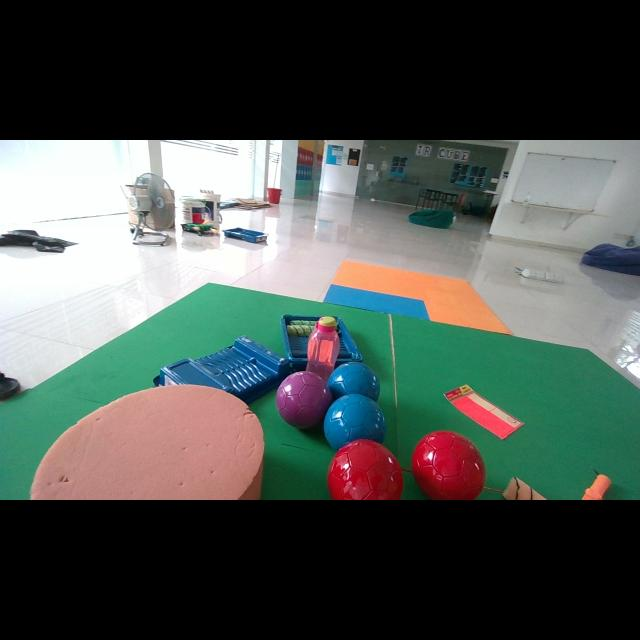B: (324, 394, 386, 450), (328, 364, 380, 401)
P: (276, 371, 332, 429)
R: (411, 431, 486, 500), (328, 439, 404, 500)
